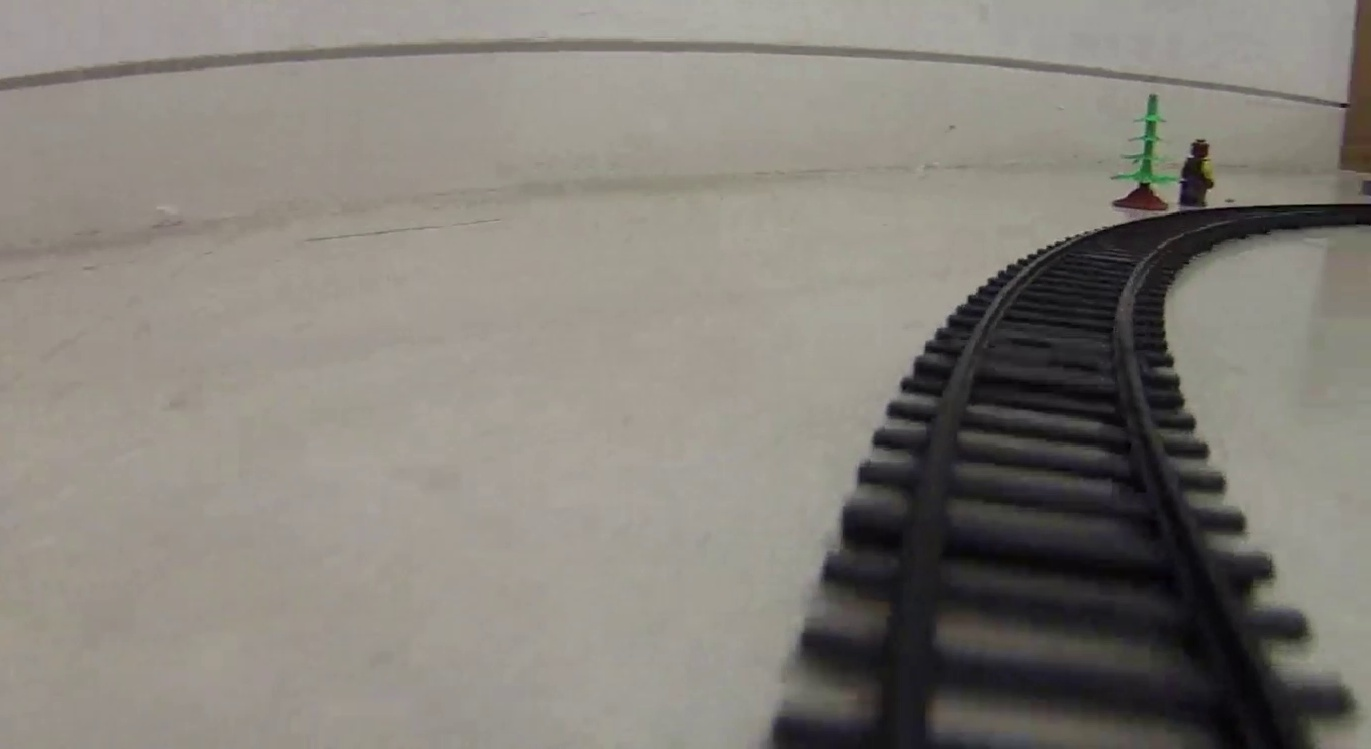people: (1179, 140, 1214, 209)
tree: (1109, 94, 1183, 212)
